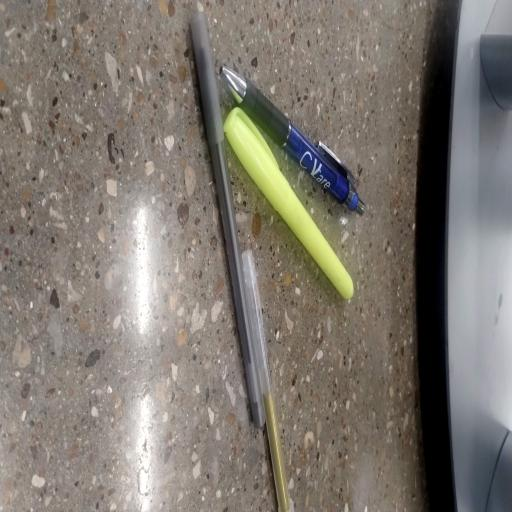pen: (191, 13, 264, 427), (221, 67, 364, 214), (243, 251, 293, 512)
